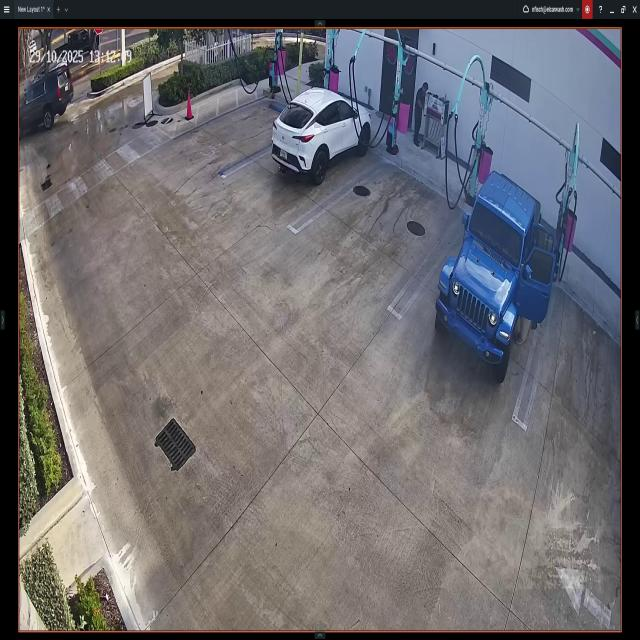Car: (436, 171, 559, 376), (276, 82, 370, 183), (19, 71, 75, 139)
